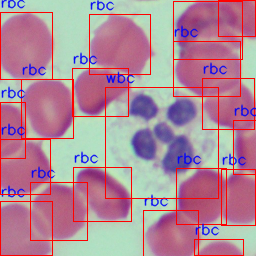rbc: (173, 1, 242, 59), (173, 41, 240, 96), (89, 14, 150, 74), (0, 12, 52, 79), (30, 182, 87, 240), (73, 167, 131, 221), (21, 79, 73, 138), (0, 201, 52, 255), (176, 168, 226, 224), (0, 139, 50, 194), (72, 68, 128, 116), (202, 78, 254, 129), (143, 210, 198, 256), (221, 169, 255, 225), (0, 102, 25, 158), (218, 0, 255, 36), (233, 120, 256, 174), (194, 239, 243, 255)
wbc: (105, 87, 218, 198)
